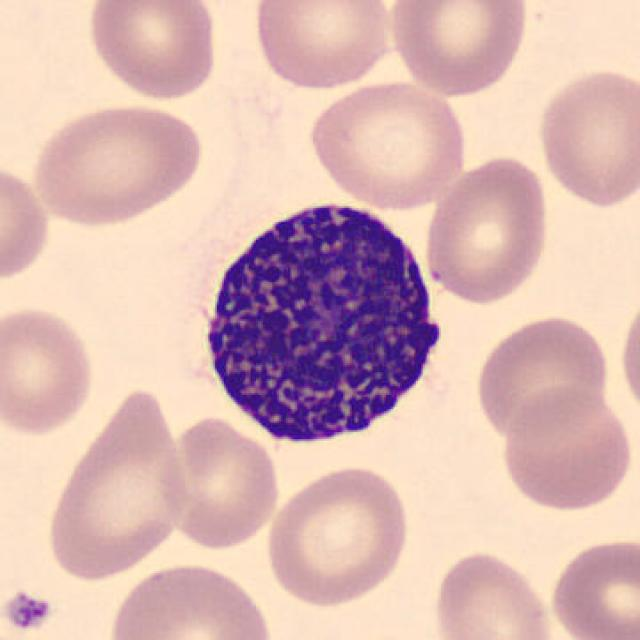Basophil: (182, 185, 460, 460)
Platelets: (2, 589, 55, 635)
RBC: (41, 382, 192, 584), (25, 99, 208, 229), (262, 462, 414, 610), (306, 77, 469, 212), (421, 152, 553, 306), (471, 310, 613, 444), (494, 384, 636, 515), (156, 412, 284, 552), (532, 63, 638, 210), (384, 0, 532, 99), (103, 559, 279, 640), (83, 0, 222, 102), (0, 301, 100, 439), (248, 0, 396, 93), (430, 546, 560, 640), (544, 532, 640, 640), (0, 156, 53, 287), (615, 289, 640, 425)
